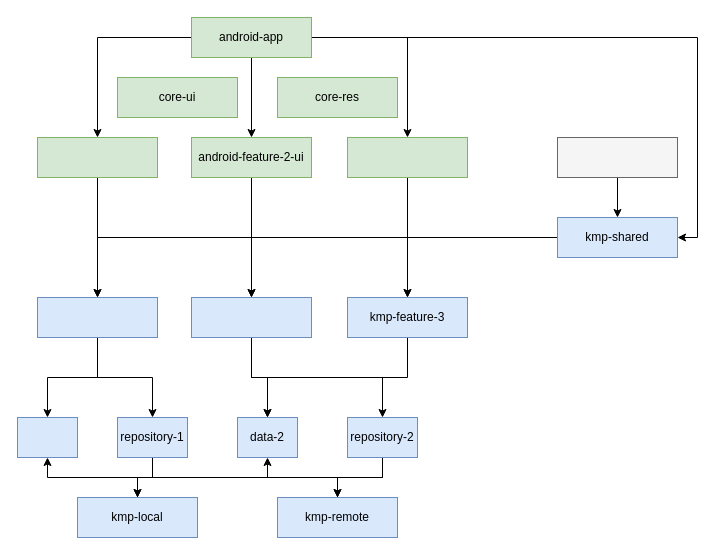
Some shapes in this 723 by 555 pixel diagram are drawn without their labels. Here are the shapes that lost their labels. From the top down, the box of each, then its label:
(36, 136, 158, 178): android-feature-1-ui
(346, 136, 468, 178): android-feature-3-ui
(556, 136, 678, 178): ios-app
(36, 296, 158, 338): kmp-feature-1
(190, 296, 312, 338): kmp-feature-2
(16, 416, 78, 458): data-1
